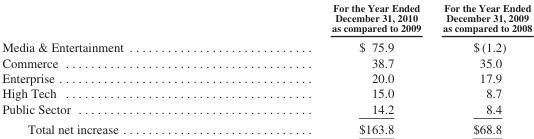table: (1, 1, 531, 136)
table column: (1, 1, 226, 136), (226, 1, 431, 136), (431, 1, 531, 136)
table column header: (1, 1, 531, 36)
table row: (1, 1, 531, 36), (1, 36, 531, 54), (1, 100, 531, 118), (1, 118, 531, 136), (1, 54, 531, 70), (1, 70, 531, 85), (1, 85, 531, 100)
